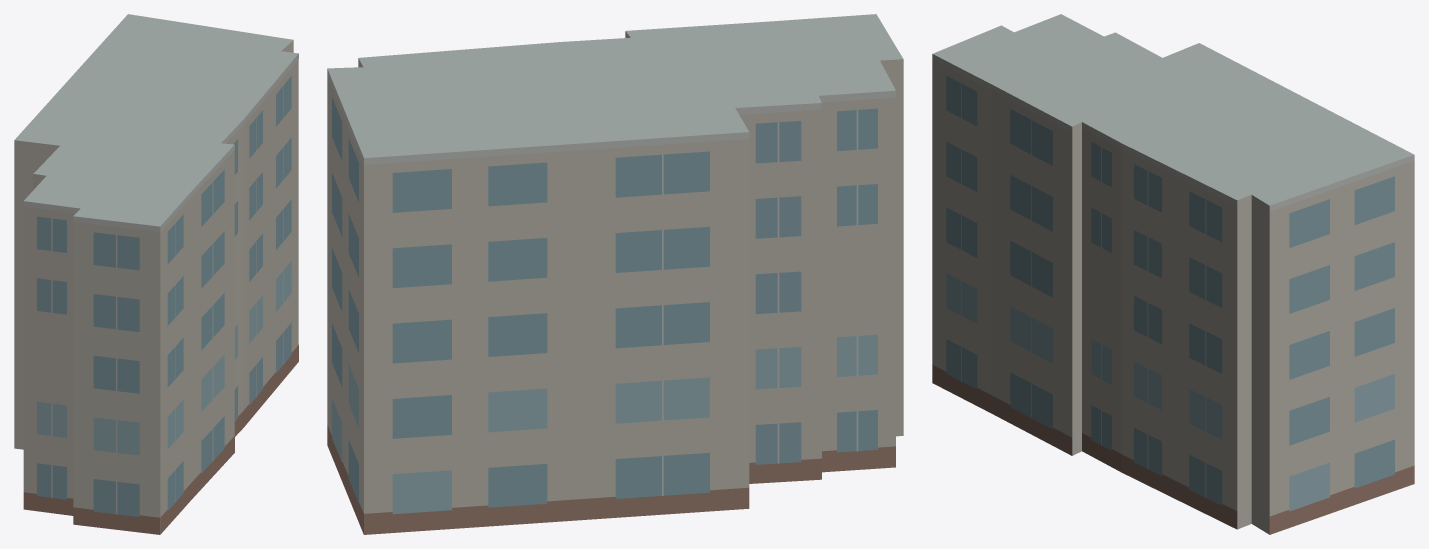
Rendered from survey-upis-32752668.glb.
3 views of the same model, side by side, from view 1: azimuth 30°, elevation 25°; view 2: azimuth 150°, elevation 25°; view 3: azimuth 270°, elevation 25° (orthographic). The views are drawn at different scales.
Visible parts, largest first — view 1: survey-upis-32752668.tmp; view 2: survey-upis-32752668.tmp; view 3: survey-upis-32752668.tmp.
Part boxes in pixels (bbox=[...]): survey-upis-32752668.tmp: bbox=[14, 14, 298, 534]; survey-upis-32752668.tmp: bbox=[327, 14, 903, 534]; survey-upis-32752668.tmp: bbox=[932, 14, 1414, 534].
Size of the model in its own units: 16.93 by 13.55 by 18.
